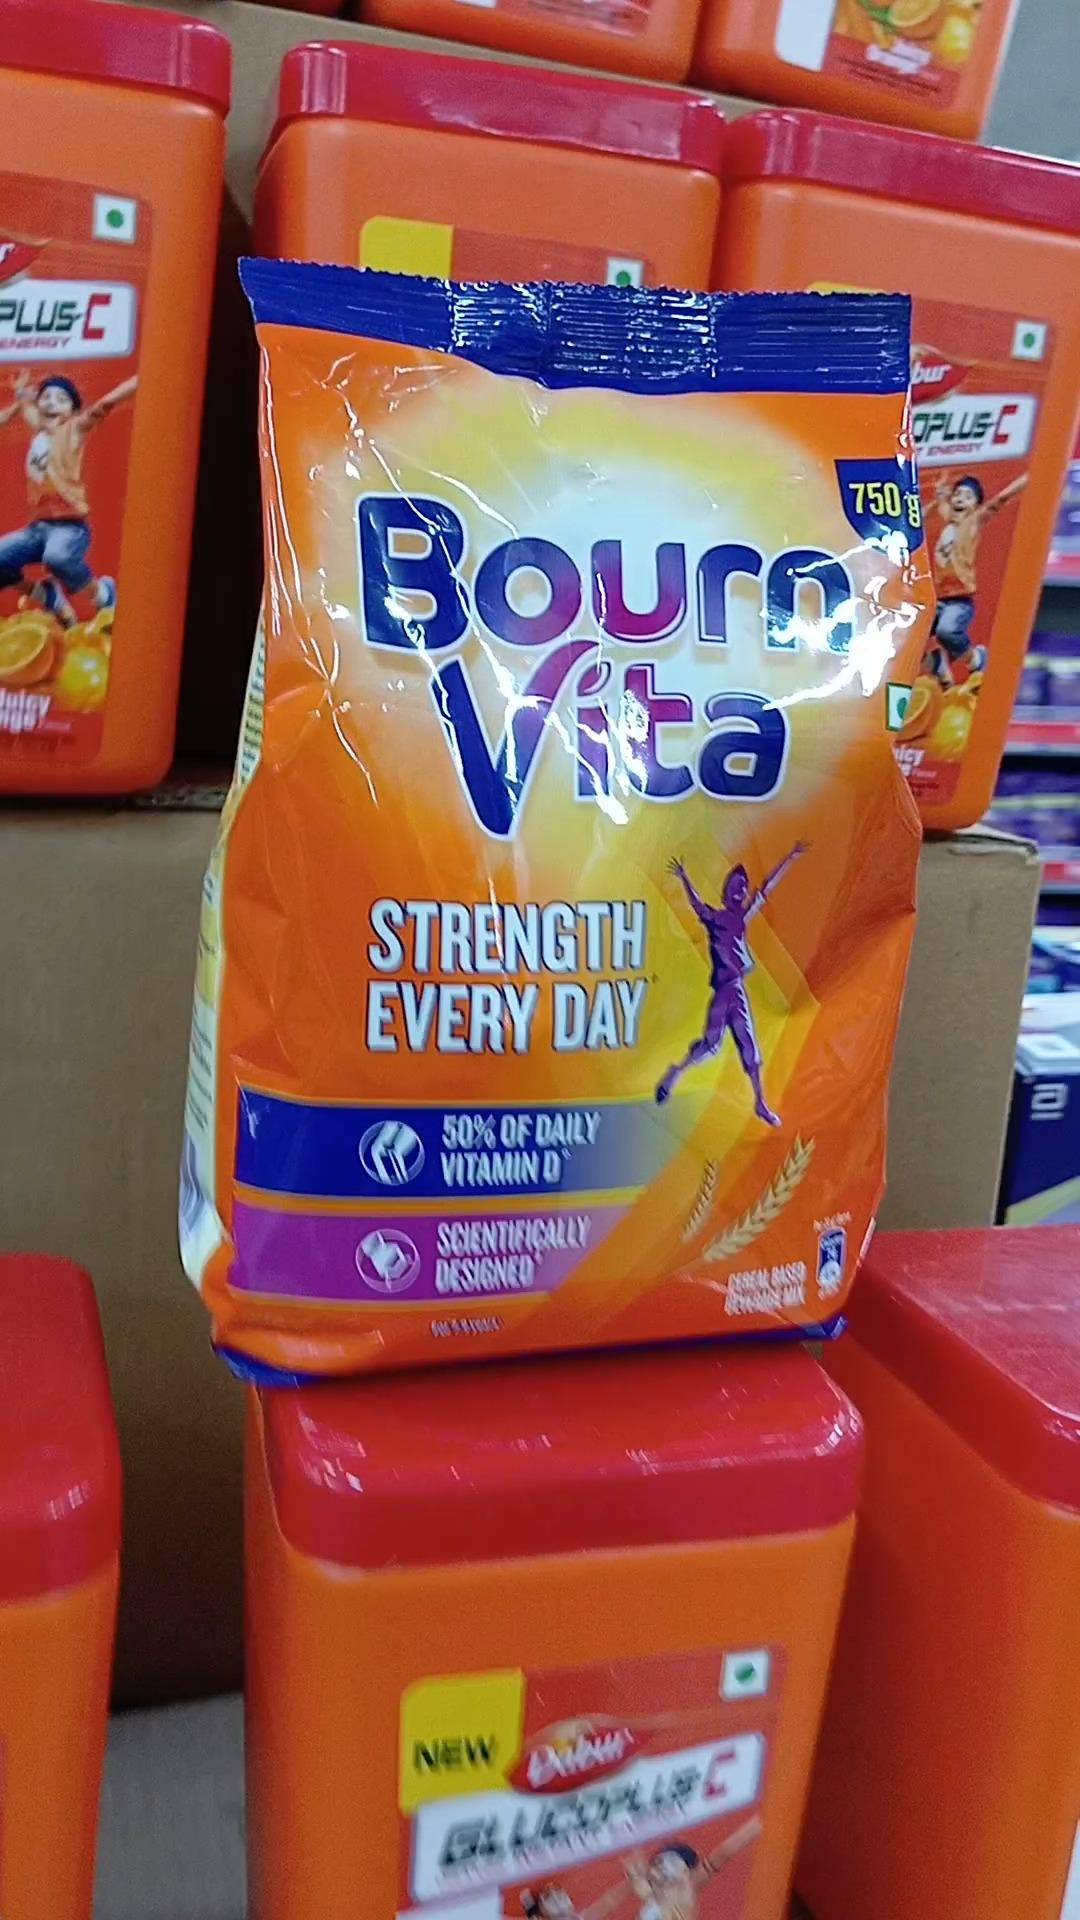BOURN_VITA_750_G_POUCH: (218, 249, 895, 1370)
